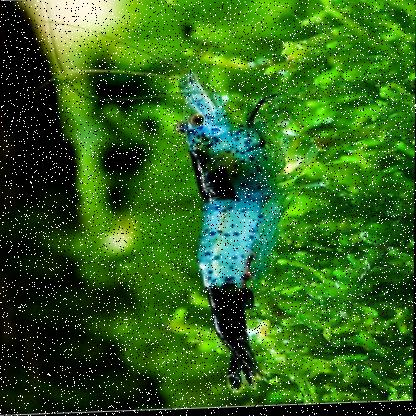shrimp: (175, 60, 297, 399)
